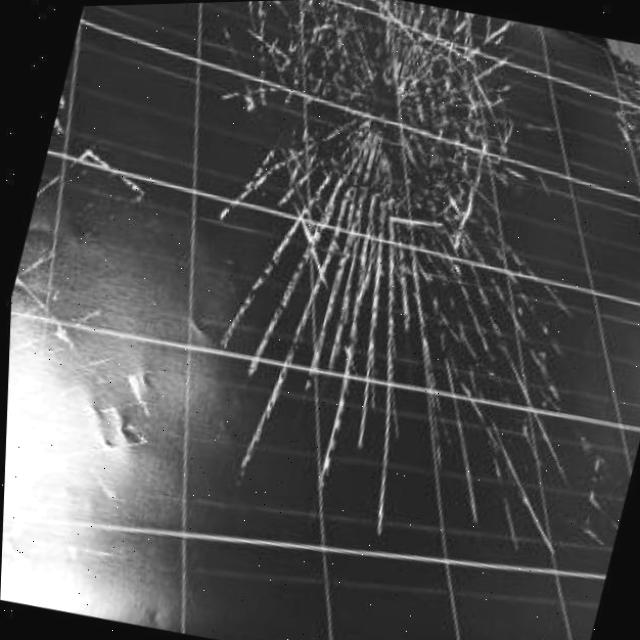Anomaly Solar Panel: (0, 0, 640, 640)
Structural Damage: (224, 142, 533, 429), (194, 16, 468, 208), (273, 0, 510, 126), (596, 71, 640, 206)
